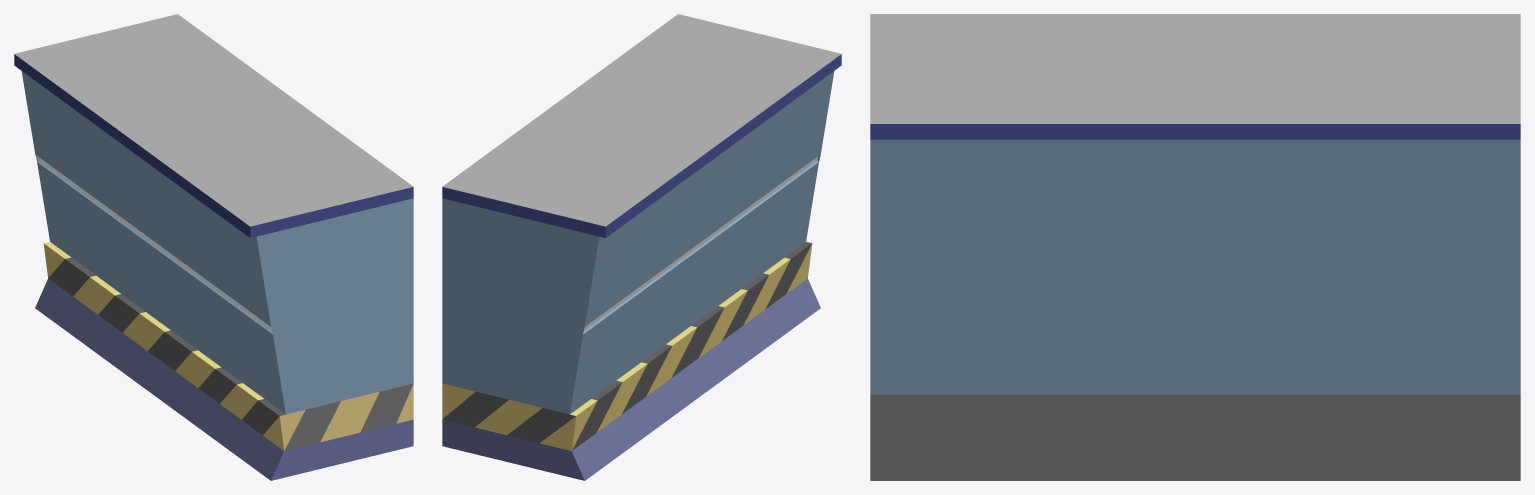
File: 0_1_Wall_3.fbx
3 renders of one model, left to right at view 1: azimuth 30°, elevation 25°; view 2: azimuth 150°, elevation 25°; view 3: azimuth 270°, elevation 25°, orthographic. The views are drawn at different scales.
Parts seen in each view (by area): view 1: 0_1_Wall_3; view 2: 0_1_Wall_3; view 3: 0_1_Wall_3.
Boxes of the visible parts, x1=… form: 0_1_Wall_3: x1=14, y1=14, x2=413, y2=480; 0_1_Wall_3: x1=442, y1=14, x2=841, y2=480; 0_1_Wall_3: x1=870, y1=14, x2=1520, y2=480.
Size of the model in its own units: 150 by 227 by 375.
